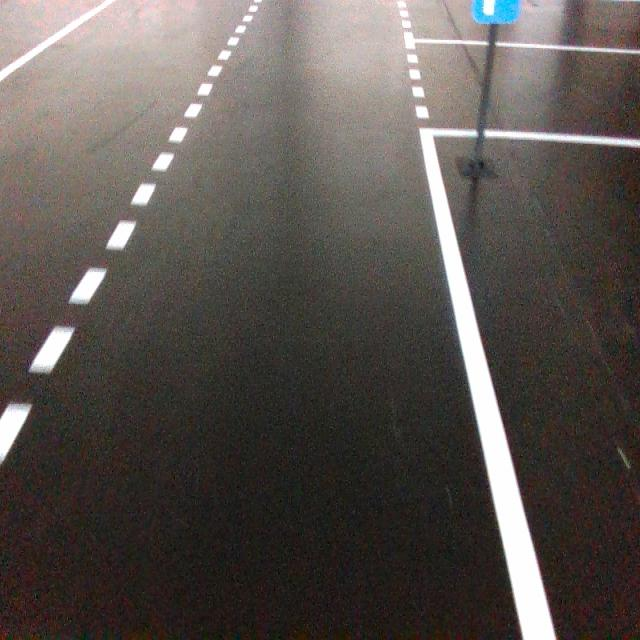parking-sign: (471, 0, 522, 25)
